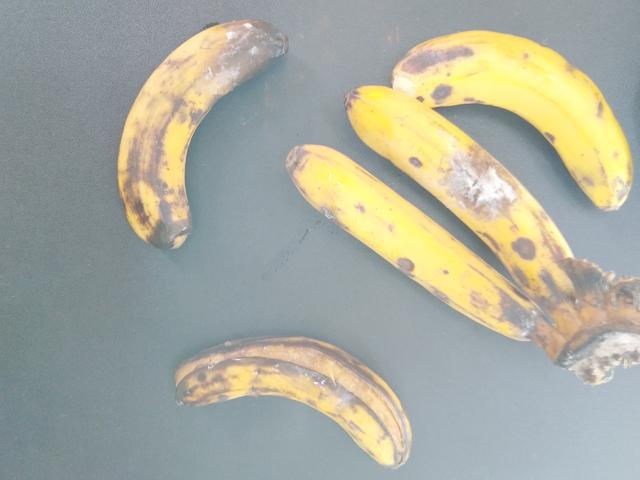overripe: (341, 79, 580, 316), (277, 132, 539, 340), (396, 21, 632, 201)
rotten: (105, 0, 260, 256), (159, 328, 414, 466), (435, 125, 522, 218)
